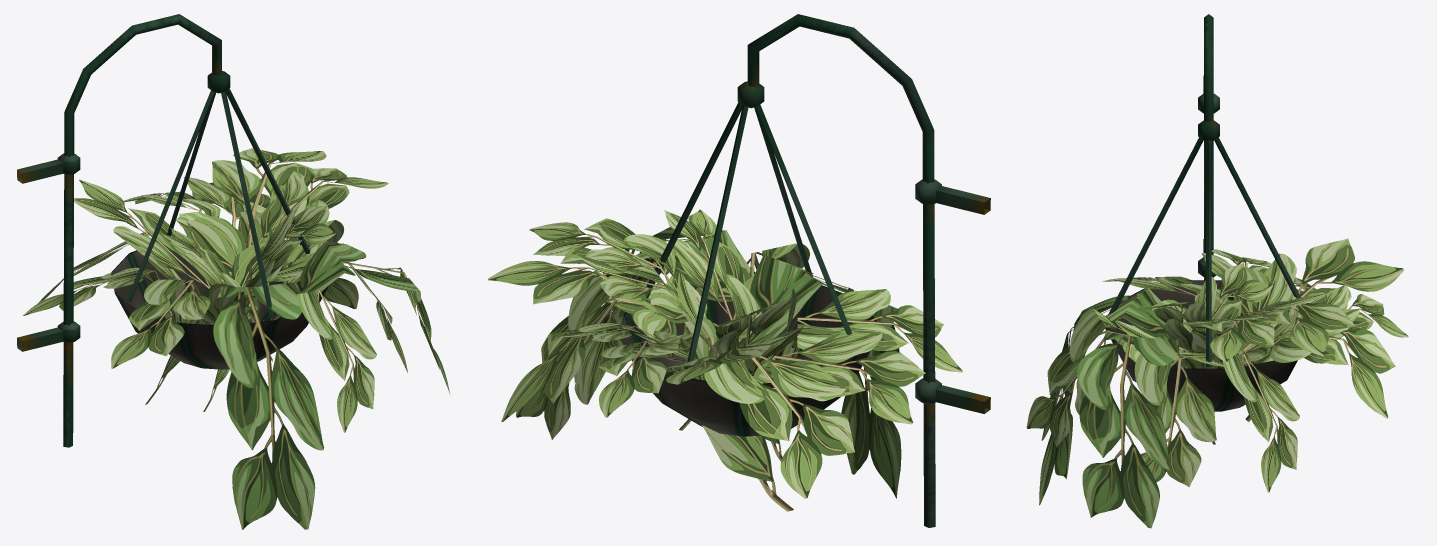
The model's file is SM_wall_flower.FBX.
3 renders of one model, left to right at view 1: azimuth 30°, elevation 25°; view 2: azimuth 150°, elevation 25°; view 3: azimuth 270°, elevation 25°, orthographic. The views are drawn at different scales.
Parts seen in each view (by area): view 1: wall_flower; view 2: wall_flower; view 3: wall_flower.
Boxes of the visible parts, left/top/right/bottom form: wall_flower: left=17, top=14, right=449, bottom=529; wall_flower: left=488, top=14, right=990, bottom=527; wall_flower: left=1026, top=14, right=1408, bottom=528.
Size of the model in its own units: 75.01 by 67.4 by 82.92.
